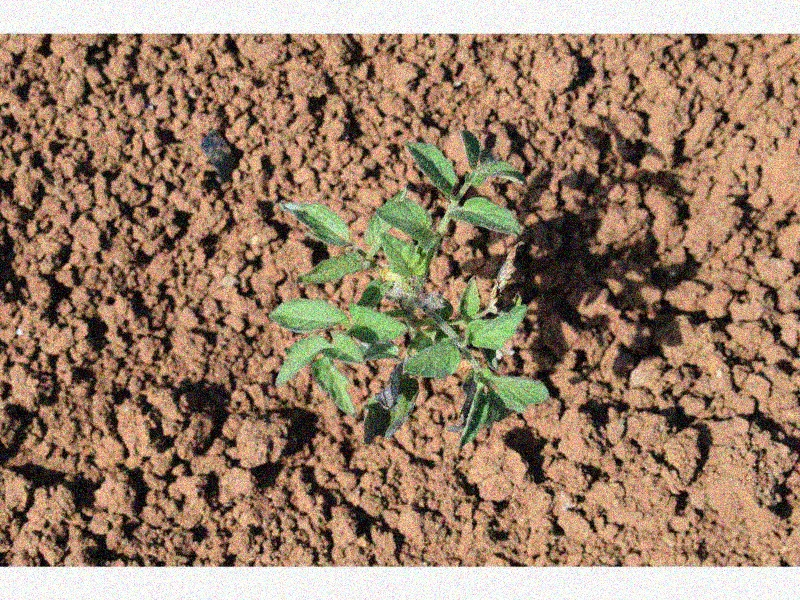tomato: (269, 129, 550, 443)
